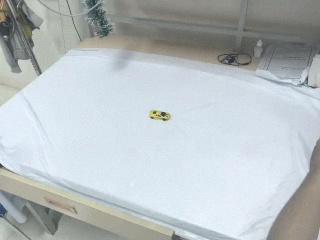toy_car: (148, 107, 172, 122)
